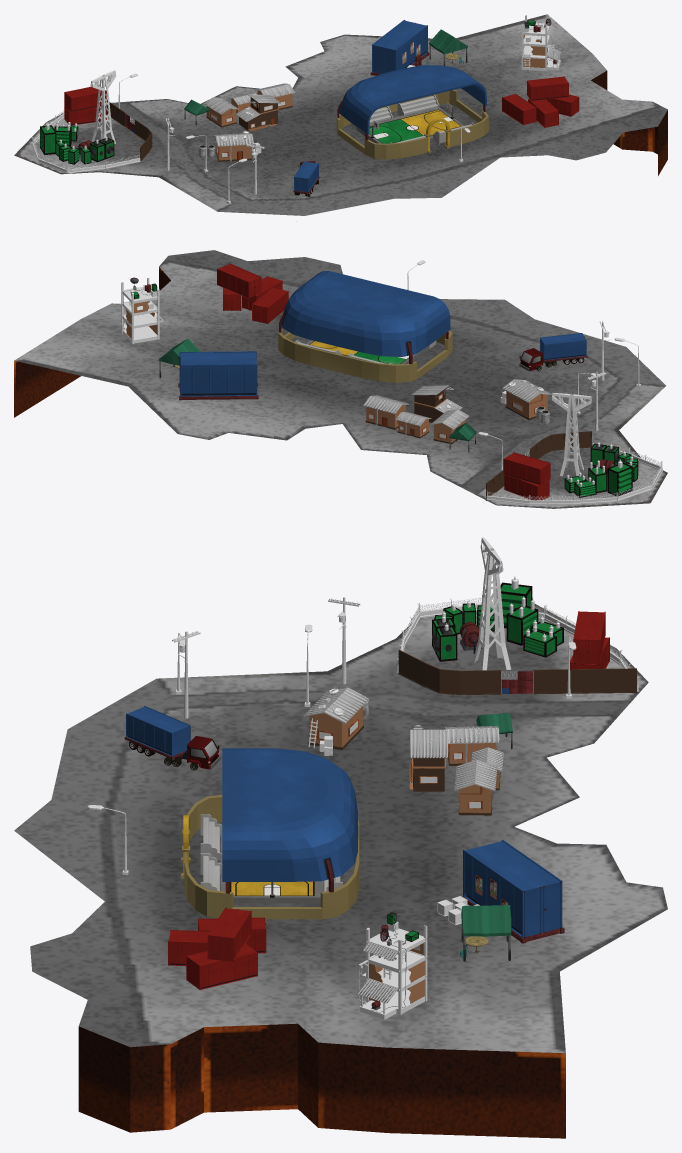
File: Central.fbx
3 renders of one model, top to bottom at view 1: azimuth 30°, elevation 25°; view 2: azimuth 150°, elevation 25°; view 3: azimuth 270°, elevation 25°, orthographic. The views are drawn at different scales.
Visible parts, largest first — view 1: central, Cube.2213, Cube.1985, Cube.1998, court, Sphere.010, Cube.1992, Cube.1991, Cube.1982, Cube.1665, Cube.2206, Cube.2001 (+9 smaller); view 2: central, Cube.2213, Cube.1998, Cube.1985, Sphere.010, Cube.1992, Cube.1665, Cube.2003, Cube.1991, Cube.2178, Cube.2206, Cube.1996 (+10 smaller); view 3: central, Cube.2213, Cube.1998, Sphere.010, Cube.1985, Cube.1992, Cube.2003, Cube.1665, Cube.1991, court, Cube.2000, Cube.1996 (+8 smaller).
Part boxes in pixels (x1=…): central: x1=14, y1=14, x2=667, y2=215; Cube.2213: x1=339, y1=65, x2=486, y2=134; Cube.1985: x1=336, y1=89, x2=488, y2=159; Cube.1998: x1=370, y1=20, x2=429, y2=75; court: x1=356, y1=107, x2=464, y2=143; Sphere.010: x1=521, y1=15, x2=560, y2=71; Cube.1992: x1=198, y1=131, x2=261, y2=161; Cube.1991: x1=236, y1=94, x2=280, y2=131; Cube.1982: x1=351, y1=94, x2=474, y2=144; Cube.1665: x1=90, y1=70, x2=116, y2=143; Cube.2206: x1=527, y1=76, x2=568, y2=101; Cube.2001: x1=502, y1=93, x2=536, y2=125; central: x1=14, y1=250, x2=667, y2=508; Cube.2213: x1=281, y1=271, x2=450, y2=356; Cube.1998: x1=178, y1=351, x2=258, y2=400; Cube.1985: x1=278, y1=329, x2=452, y2=382; Sphere.010: x1=119, y1=277, x2=163, y2=343; Cube.1992: x1=500, y1=379, x2=551, y2=424; Cube.1665: x1=552, y1=393, x2=591, y2=476; Cube.2003: x1=540, y1=333, x2=587, y2=364; Cube.1991: x1=411, y1=385, x2=462, y2=422; Cube.2178: x1=503, y1=452, x2=550, y2=485; Cube.2206: x1=217, y1=263, x2=261, y2=298; Cube.1996: x1=363, y1=395, x2=409, y2=429; central: x1=14, y1=603, x2=667, y2=1138; Cube.2213: x1=222, y1=748, x2=358, y2=881; Cube.1998: x1=462, y1=839, x2=564, y2=943; Sphere.010: x1=357, y1=912, x2=427, y2=1019; Cube.1985: x1=181, y1=795, x2=359, y2=919; Cube.1992: x1=303, y1=687, x2=369, y2=755; Cube.2003: x1=124, y1=706, x2=190, y2=759; Cube.1665: x1=473, y1=537, x2=511, y2=670; Cube.1991: x1=409, y1=725, x2=447, y2=791; court: x1=220, y1=830, x2=323, y2=903; Cube.2000: x1=186, y1=943, x2=257, y2=990; Cube.1996: x1=454, y1=760, x2=497, y2=815.
Bounding box in the file's own units: 2875 × 657 × 1752.
